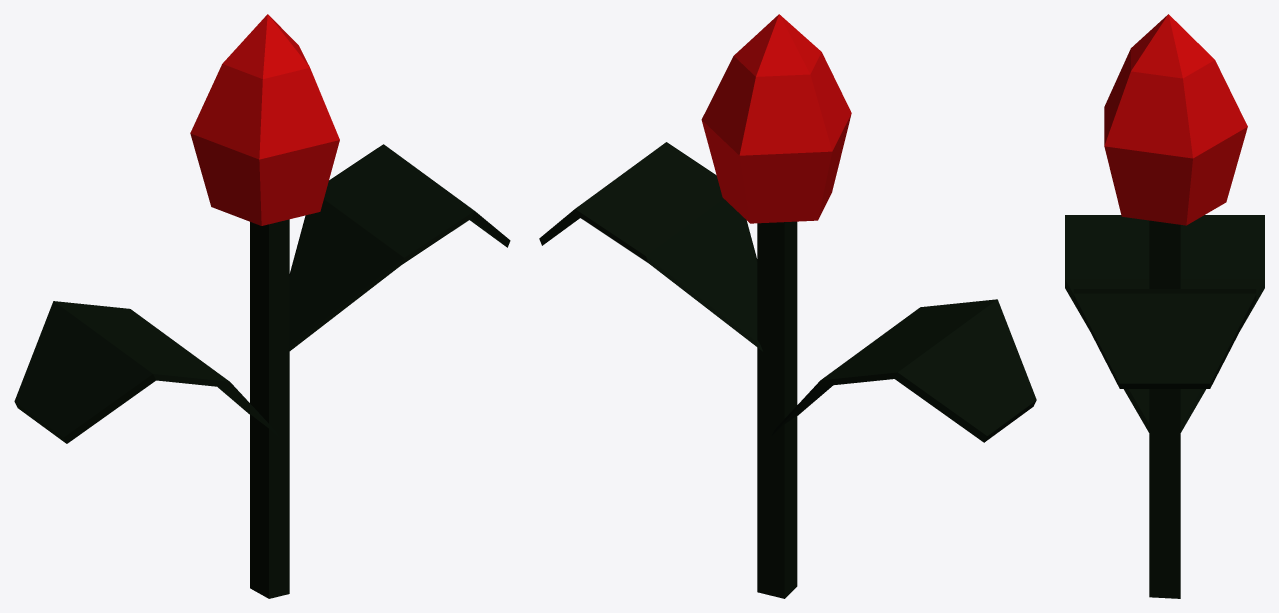
File: Flower_3.obj
The picture shows the model from 3 angles, left to right: view 1: azimuth 30°, elevation 25°; view 2: azimuth 150°, elevation 25°; view 3: azimuth 270°, elevation 25°; orthographic projection.
Parts seen in each view (by area): view 1: Flower_3_Cube.008; view 2: Flower_3_Cube.008; view 3: Flower_3_Cube.008.
Boxes of the visible parts, box(x1,y1,x2,y2) form: Flower_3_Cube.008: box(14, 14, 510, 598); Flower_3_Cube.008: box(539, 14, 1036, 598); Flower_3_Cube.008: box(1065, 14, 1264, 598).
Bounding box in the file's own units: 0.6189 × 0.7587 × 0.2379.
